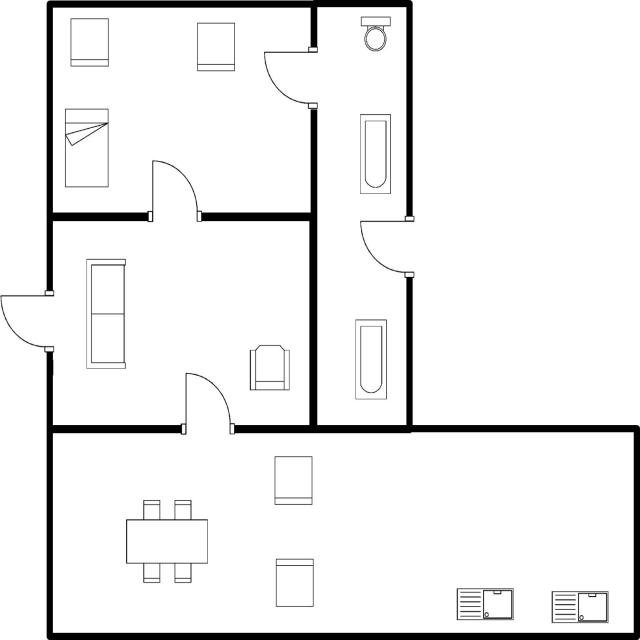armchair: (242, 340, 294, 396)
bed: (62, 105, 112, 192)
dining_table: (120, 496, 212, 586)
large_sink: (356, 11, 393, 55)
large_sofa: (80, 252, 131, 373)
sink: (546, 585, 612, 627), (453, 583, 516, 624)
small_sofa: (267, 452, 317, 510), (191, 16, 239, 76), (243, 340, 294, 395), (270, 553, 318, 610), (66, 14, 112, 70)
tub: (355, 110, 395, 198), (350, 314, 389, 402)
